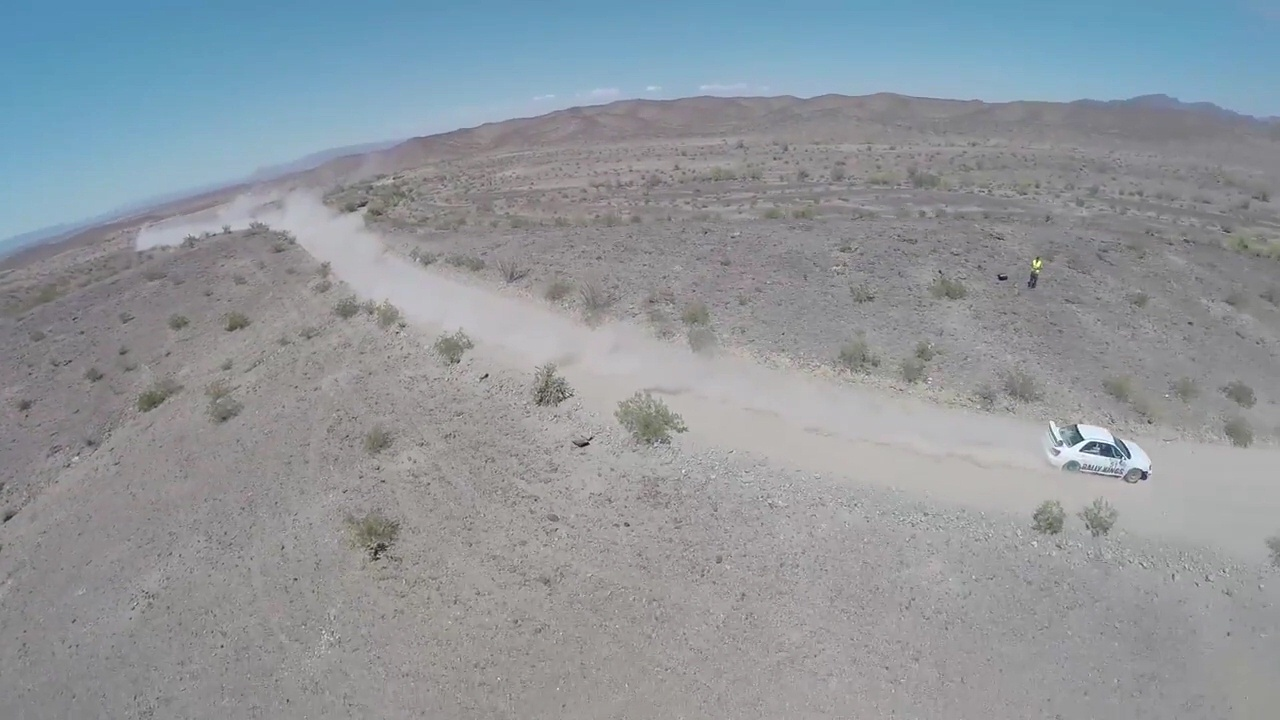araba: (1044, 417, 1154, 482)
insan: (1029, 253, 1044, 294)
